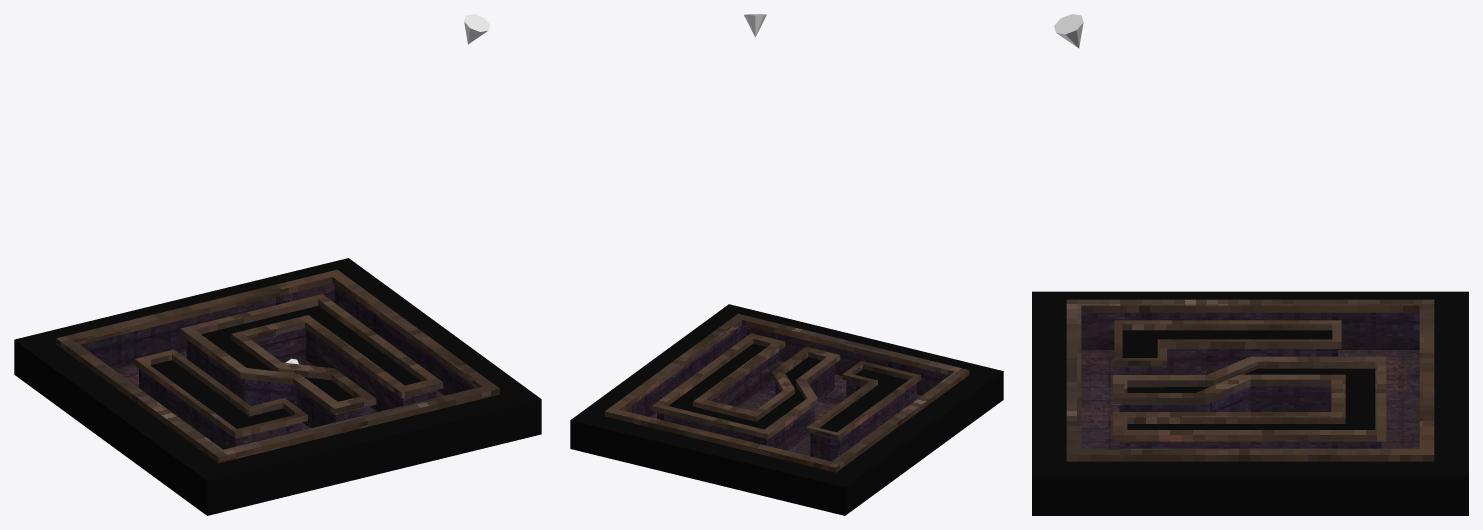
File: demo-basic.glb
3 views of the same model, side by side, from view 1: azimuth 30°, elevation 25°; view 2: azimuth 150°, elevation 25°; view 3: azimuth 270°, elevation 25° (orthographic). The views are drawn at different scales.
Parts seen in each view (by area): view 1: Plane, Plane.003, Plane.002; view 2: Plane, Plane.003, Plane.002, Plane.001; view 3: Plane, Plane.003, Plane.002, Plane.001, Cone.001.
Part boxes in pixels (x1,y1,x2,y2): Plane: [14, 258, 541, 515]; Plane.003: [56, 269, 499, 463]; Plane.002: [80, 283, 475, 449]; Plane: [570, 304, 1003, 515]; Plane.003: [604, 313, 969, 472]; Plane.002: [624, 325, 949, 461]; Plane.001: [650, 361, 921, 455]; Plane: [1032, 291, 1468, 515]; Plane.003: [1066, 299, 1434, 461]; Plane.002: [1081, 312, 1419, 448]; Plane.001: [1081, 350, 1419, 448]; Cone.001: [1054, 14, 1083, 48].
Bounding box in the file's own units: 10 × 11.89 × 10.
Materials: 4 (3 with a texture image).
